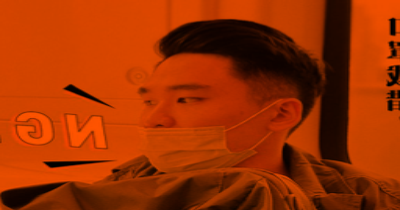mask_weared_incorrect: (135, 81, 257, 173)
